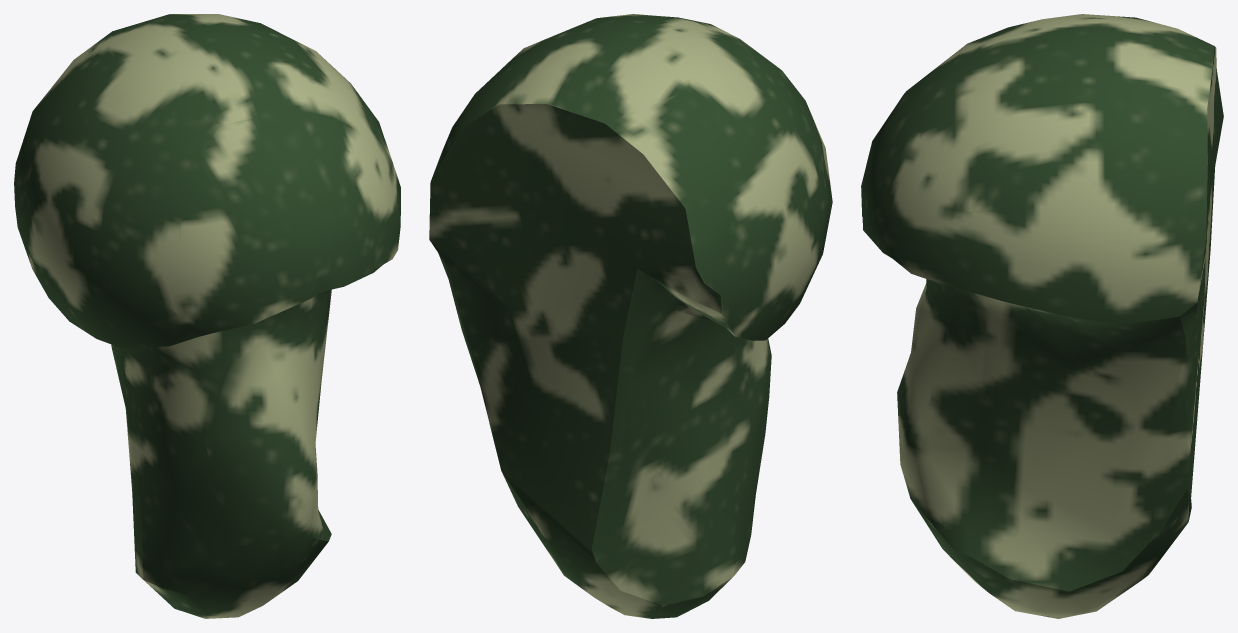
File: link_leg_1_L_0.obj
3 views of the same model, side by side, from view 1: azimuth 30°, elevation 25°; view 2: azimuth 150°, elevation 25°; view 3: azimuth 270°, elevation 25° (orthographic). The views are drawn at different scales.
Parts seen in each view (by area): view 1: link_leg_1_L_0; view 2: link_leg_1_L_0; view 3: link_leg_1_L_0.
Part boxes in pixels (x1=…): link_leg_1_L_0: x1=14, y1=14, x2=400, y2=618; link_leg_1_L_0: x1=429, y1=14, x2=832, y2=618; link_leg_1_L_0: x1=861, y1=14, x2=1223, y2=618.
Size of the model in its own units: 8.47 by 14.15 by 8.
